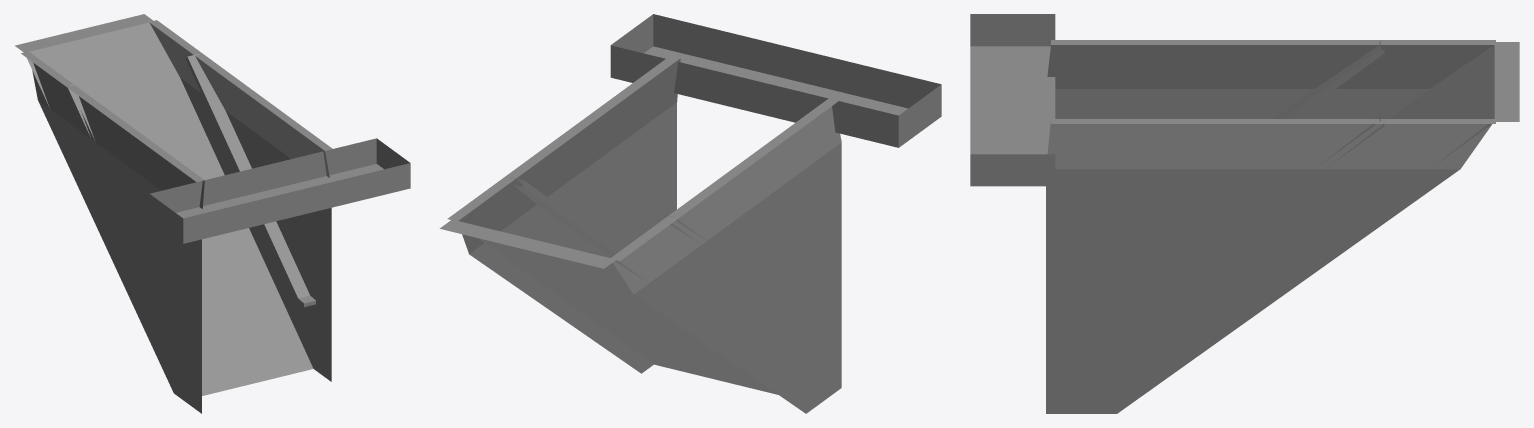
The model's file is SW_ENV_StreetEntrance_01_Lower_Collision.fbx.
3 views of the same model, side by side, from view 1: azimuth 30°, elevation 25°; view 2: azimuth 150°, elevation 25°; view 3: azimuth 270°, elevation 25° (orthographic). The views are drawn at different scales.
Visible parts, largest first — view 1: SW_ENV_StreetEntrance_01_Lower_Collision; view 2: SW_ENV_StreetEntrance_01_Lower_Collision; view 3: SW_ENV_StreetEntrance_01_Lower_Collision.
Part boxes in pixels (bbox=[...]): SW_ENV_StreetEntrance_01_Lower_Collision: bbox=[15, 14, 410, 413]; SW_ENV_StreetEntrance_01_Lower_Collision: bbox=[439, 14, 941, 413]; SW_ENV_StreetEntrance_01_Lower_Collision: bbox=[970, 14, 1519, 413].
Size of the model in its own units: 3.5 by 3.41 by 5.8.
